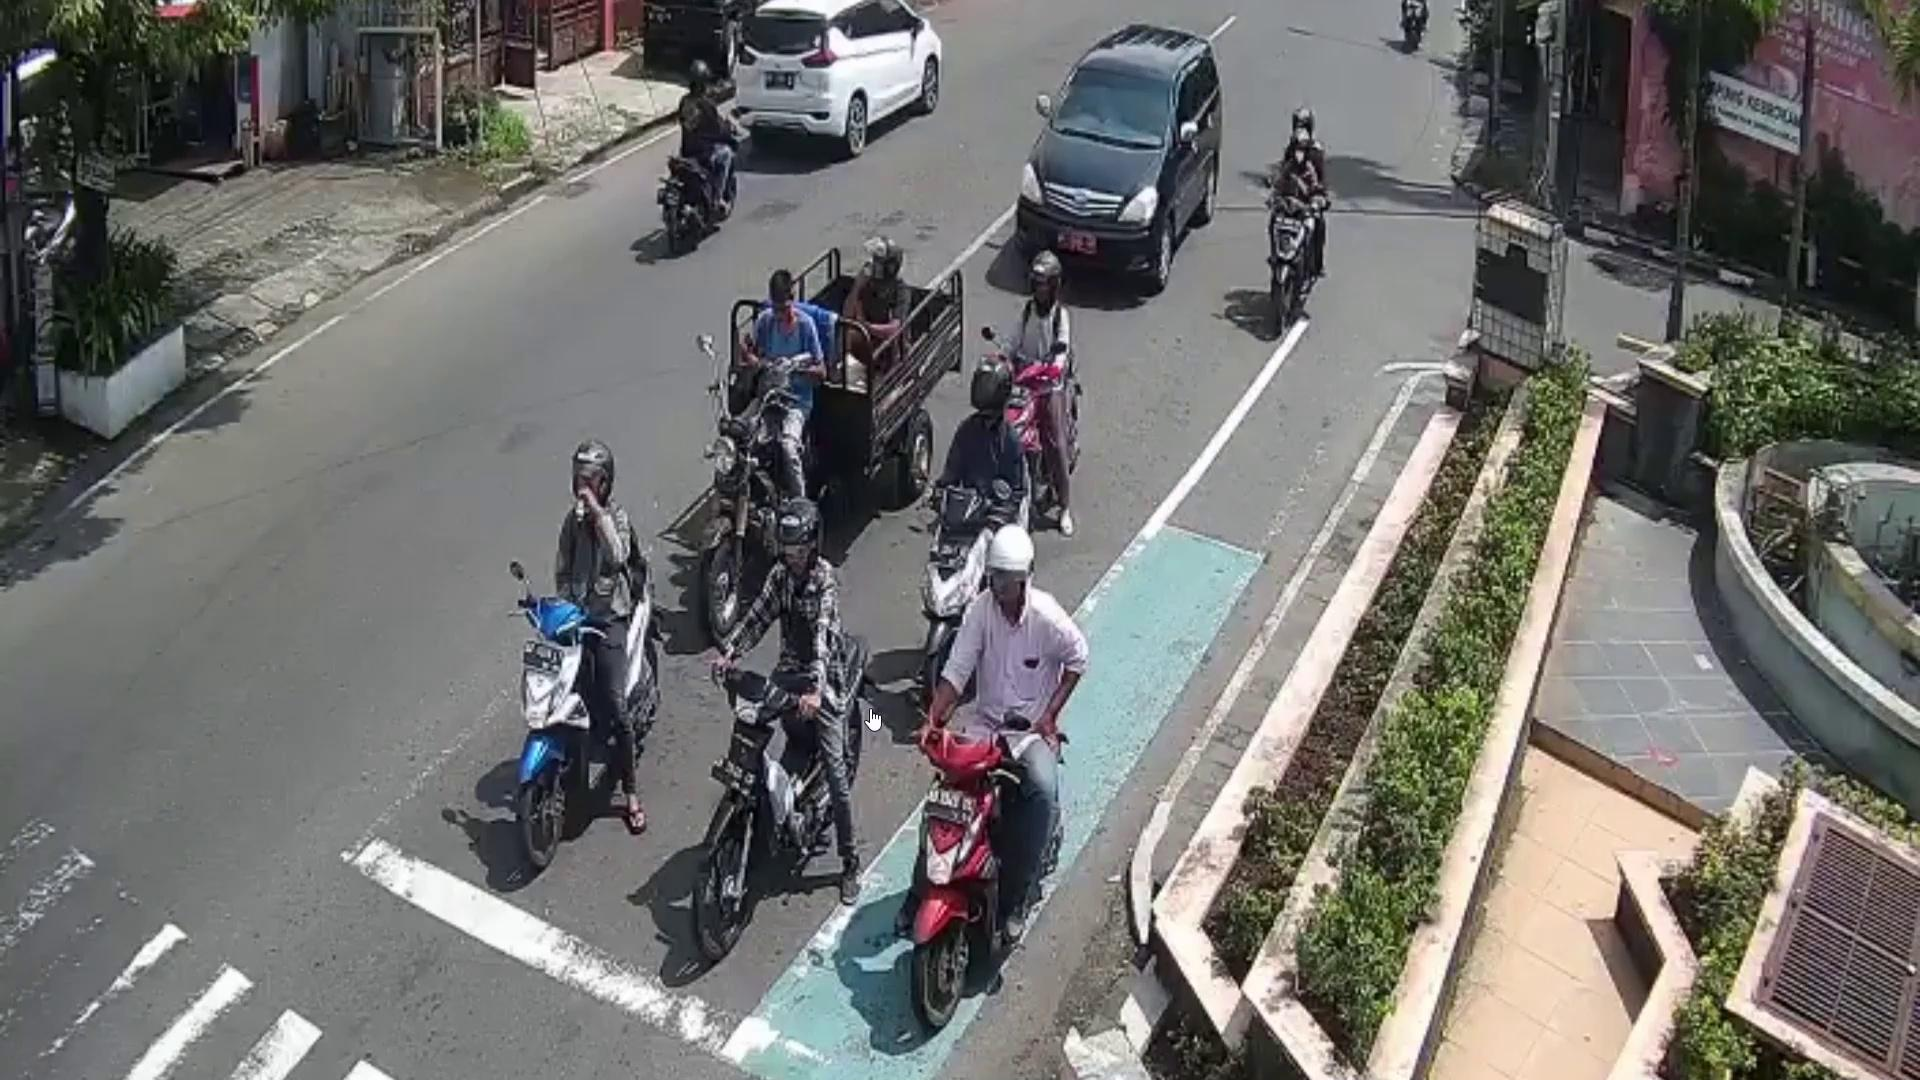car: (1010, 26, 1220, 297), (729, 0, 940, 169)
motorbike: (691, 632, 872, 949), (901, 727, 1059, 1040), (517, 542, 661, 884), (700, 405, 812, 649), (924, 484, 985, 696), (662, 127, 740, 255), (1266, 191, 1320, 347)
